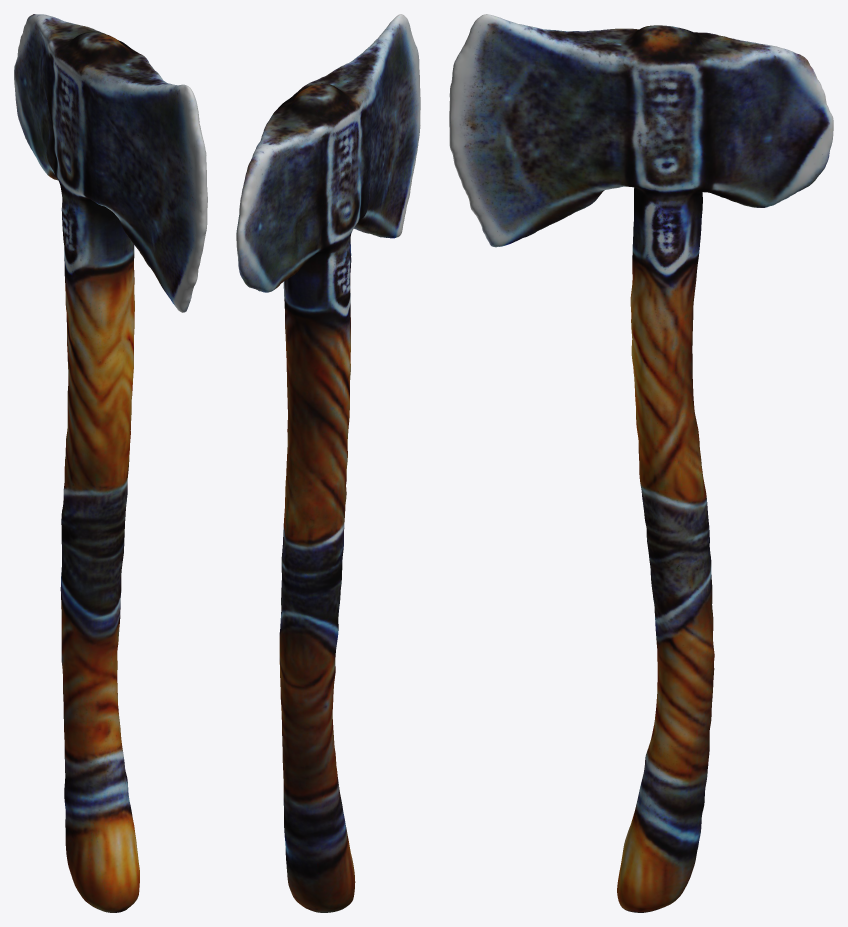
Rendered from 12dea53cc22e_Realistic_stone_axe.fbx.
3 views of the same model, side by side, from view 1: azimuth 30°, elevation 25°; view 2: azimuth 150°, elevation 25°; view 3: azimuth 270°, elevation 25° (orthographic). The views are drawn at different scales.
Parts seen in each view (by area): view 1: high_poly; view 2: high_poly; view 3: high_poly.
Part boxes in pixels (x1,y1,x2,y2): high_poly: (14,14,207,912); high_poly: (236,14,420,912); high_poly: (449,14,833,912).
Size of the model in its own units: 7.86 by 100 by 38.92.
